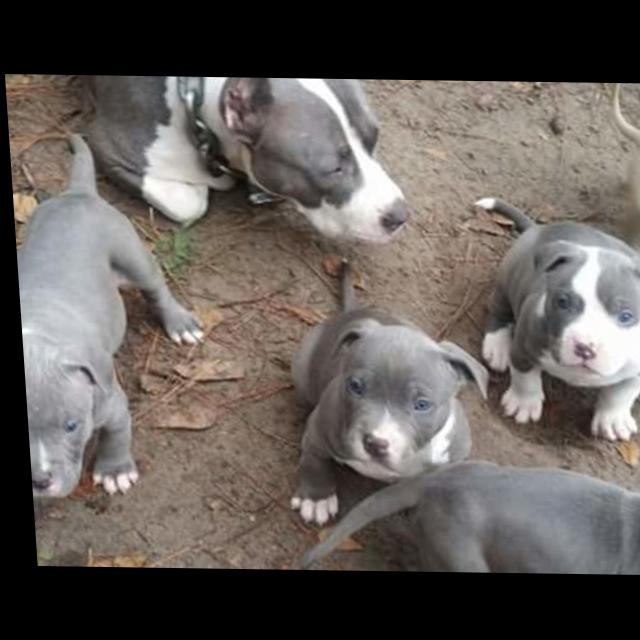am_pit_bull_terrier: (8, 131, 211, 503), (271, 256, 494, 530), (70, 76, 409, 246), (469, 196, 640, 443), (285, 457, 640, 575), (607, 83, 640, 322)
